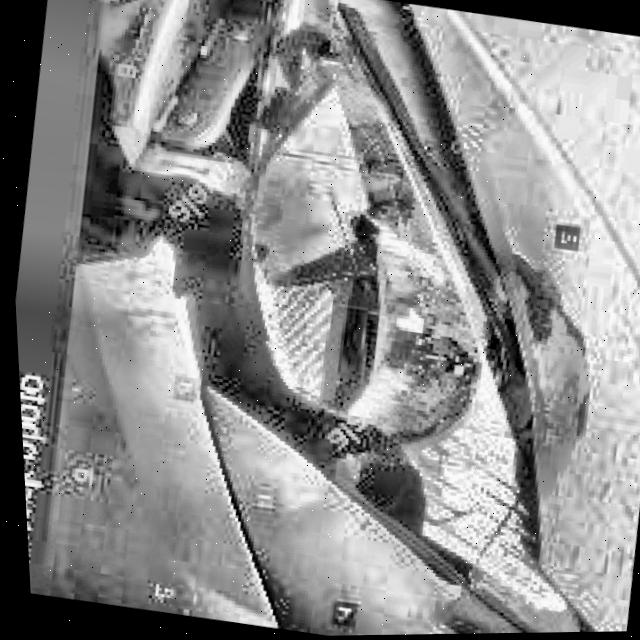head_lamp: (100, 0, 624, 639)
